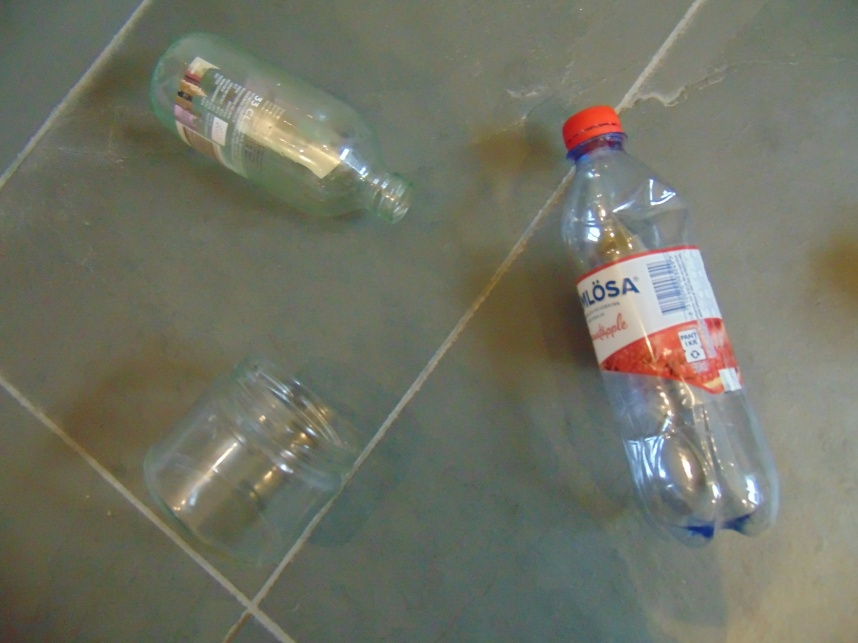glass_bottle: (147, 29, 416, 226), (139, 355, 361, 566)
plastic_bottle: (561, 104, 780, 548)
